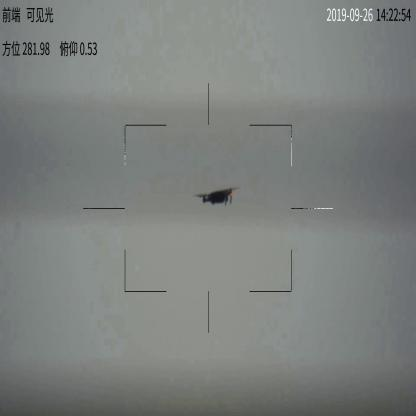uav: (196, 182, 240, 211)
